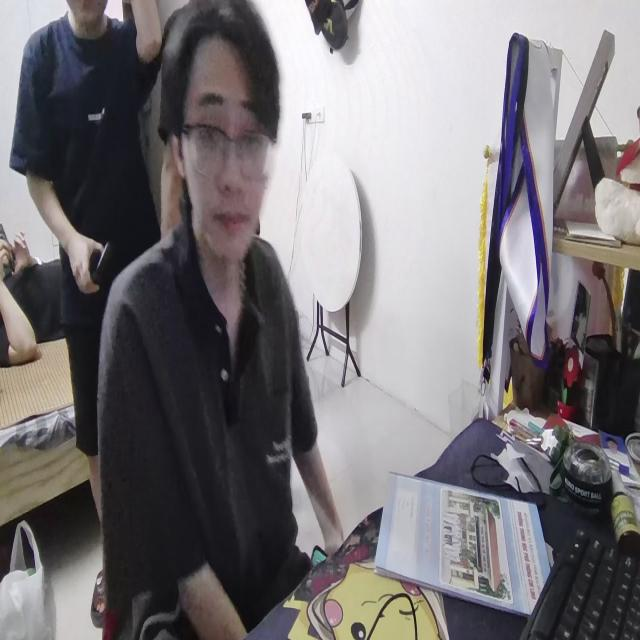book: (374, 454, 552, 620)
extra_person: (20, 1, 161, 403)
student: (96, 0, 348, 640)
